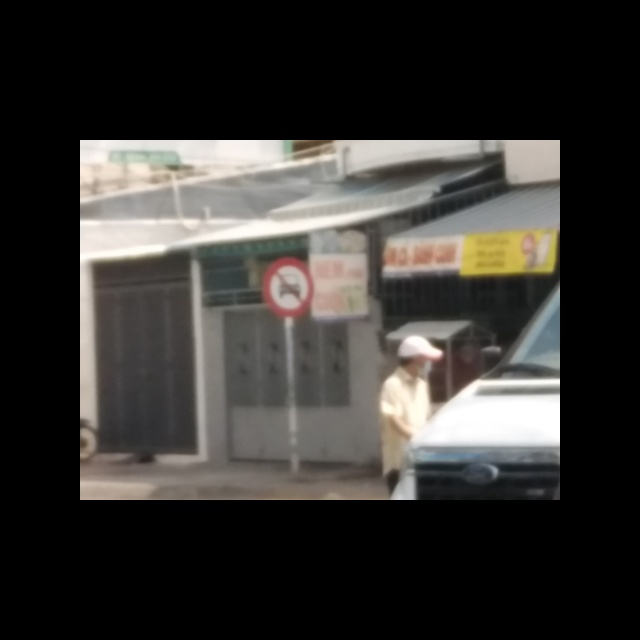Cấm xe ô tô: (262, 256, 318, 319)
